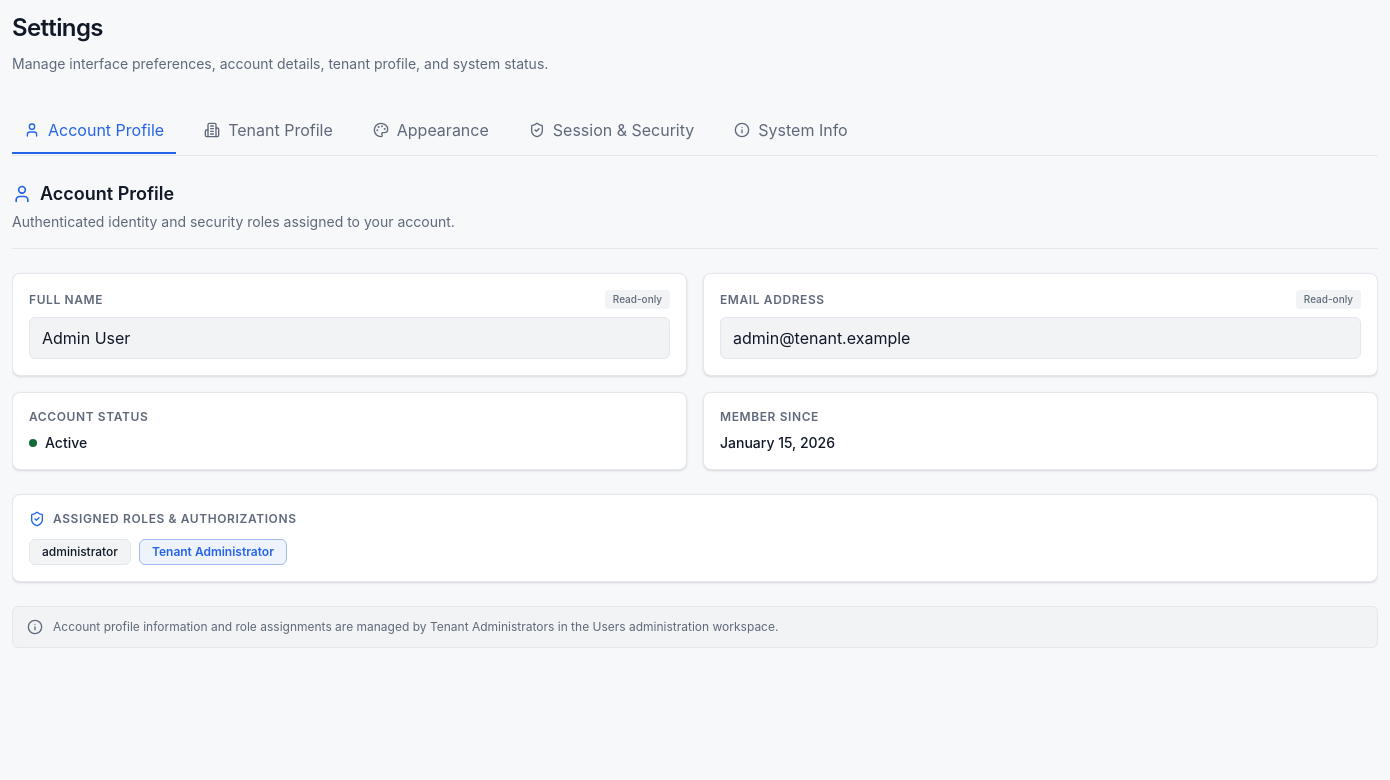
it: SettingsWorkspace Component › switches between settings tabs cleanly
Expected: the heading "Settings" is shown, [12,13,103,42]
# Switch to Tenant Profile
What coordinates should you click on to do the following:
click the tab "Tenant Profile"
I would click on:
 (268, 131)
Its box is [192,108,345,154].
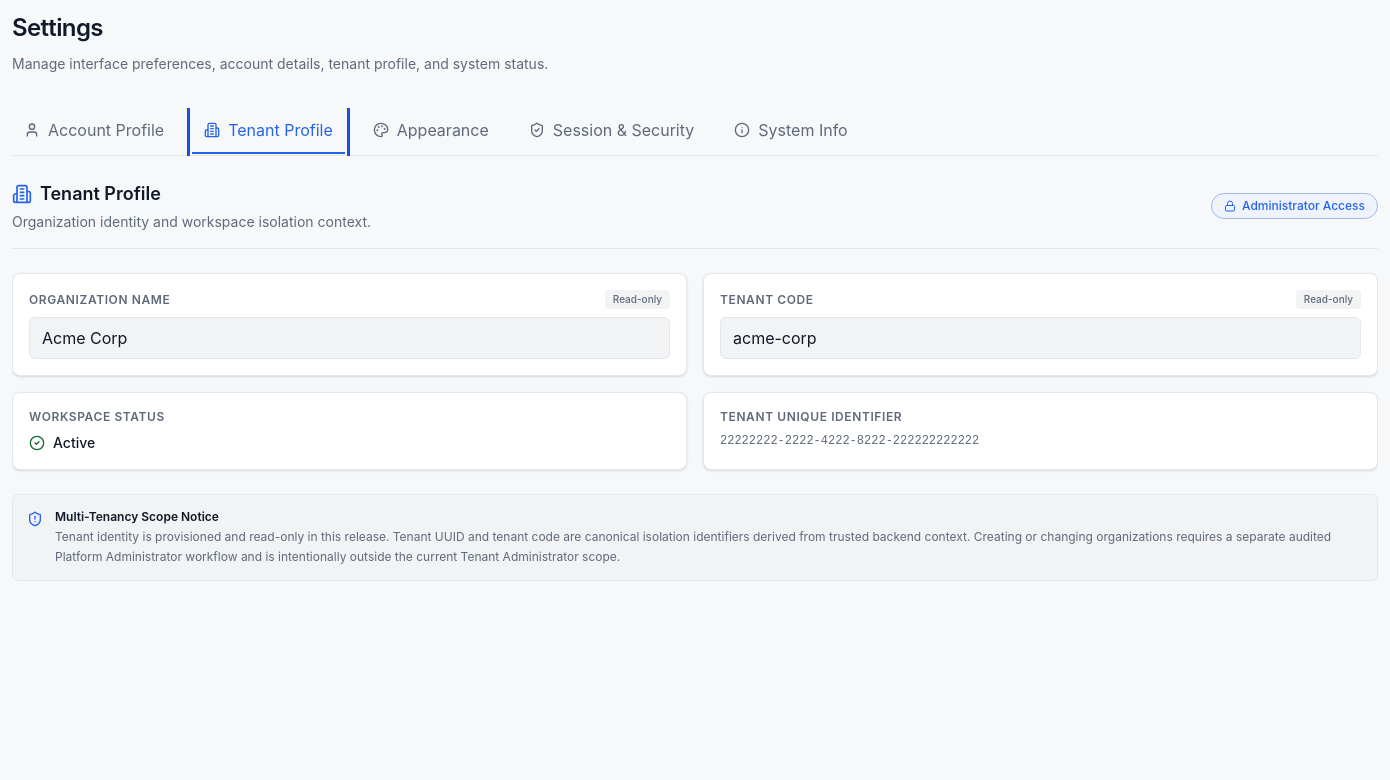
Expected: the field showing "Acme Corp" is shown, [29,317,670,359]
Expected: the field showing "acme-corp" is shown, [720,317,1361,359]
# Switch to Appearance
What coordinates should you click on to do the following:
click the tab "Appearance"
I would click on:
 (431, 131)
Its box is [361,108,501,154].
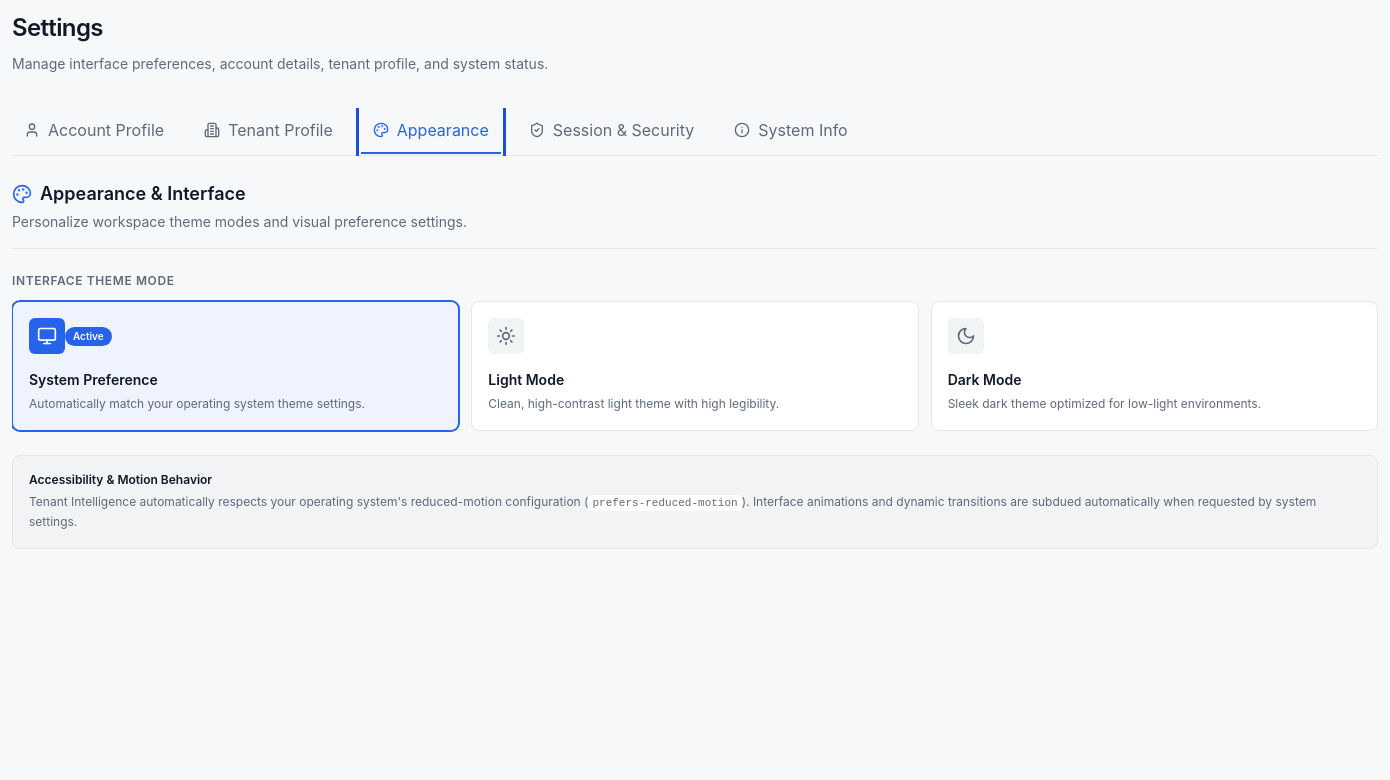
Expected: the element named "Interface Theme Mode" is shown, [12,301,1378,430]
# Switch to Session & Security
What coordinates should you click on to do the following:
click the tab "Session & Security"
I would click on:
 (612, 131)
Its box is [517,108,706,154].
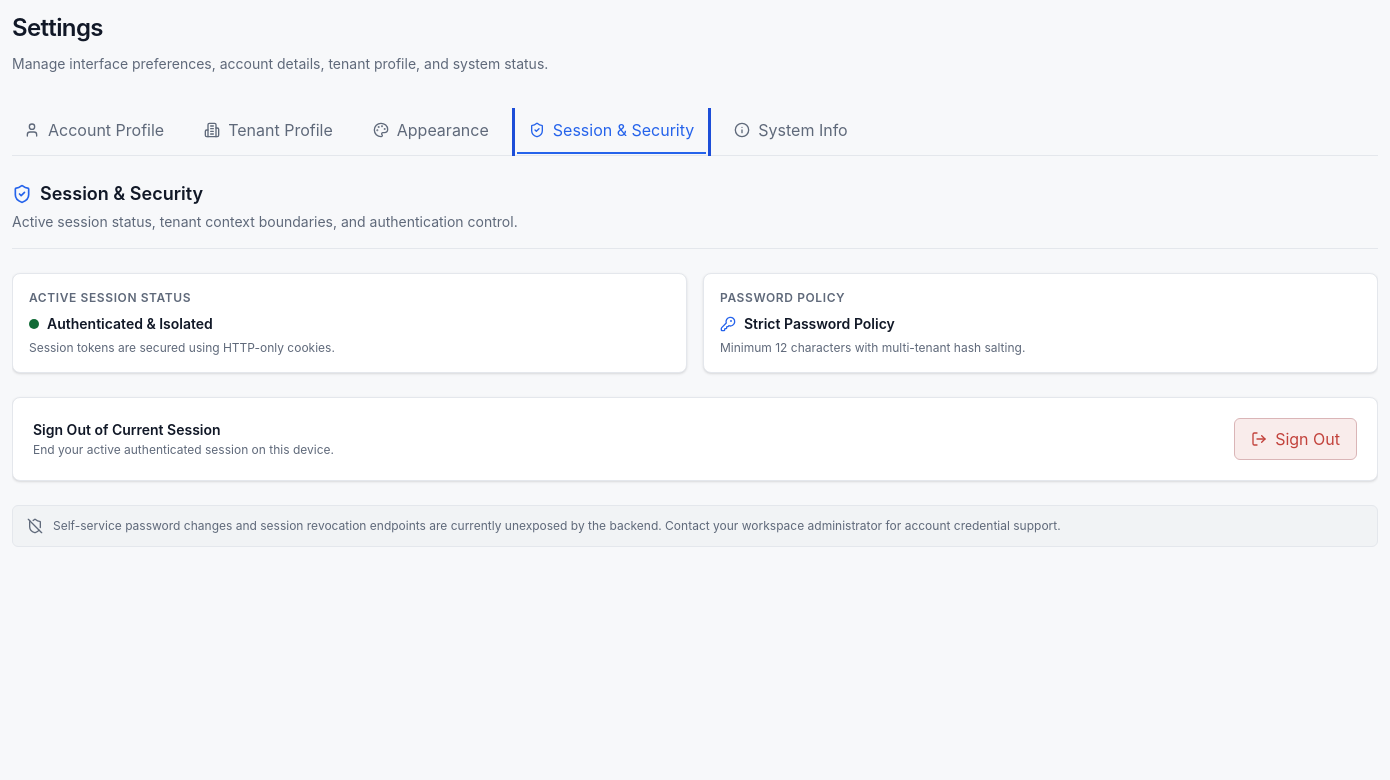
Expected: the text "Active Session Status" is shown, [29,290,191,305]
Expected: the button "Sign Out" is shown, [1234,418,1357,460]
# Switch to System Info
What coordinates should you click on to do the following:
click the tab "System Info"
I would click on:
 (791, 131)
Its box is [722,108,860,154].
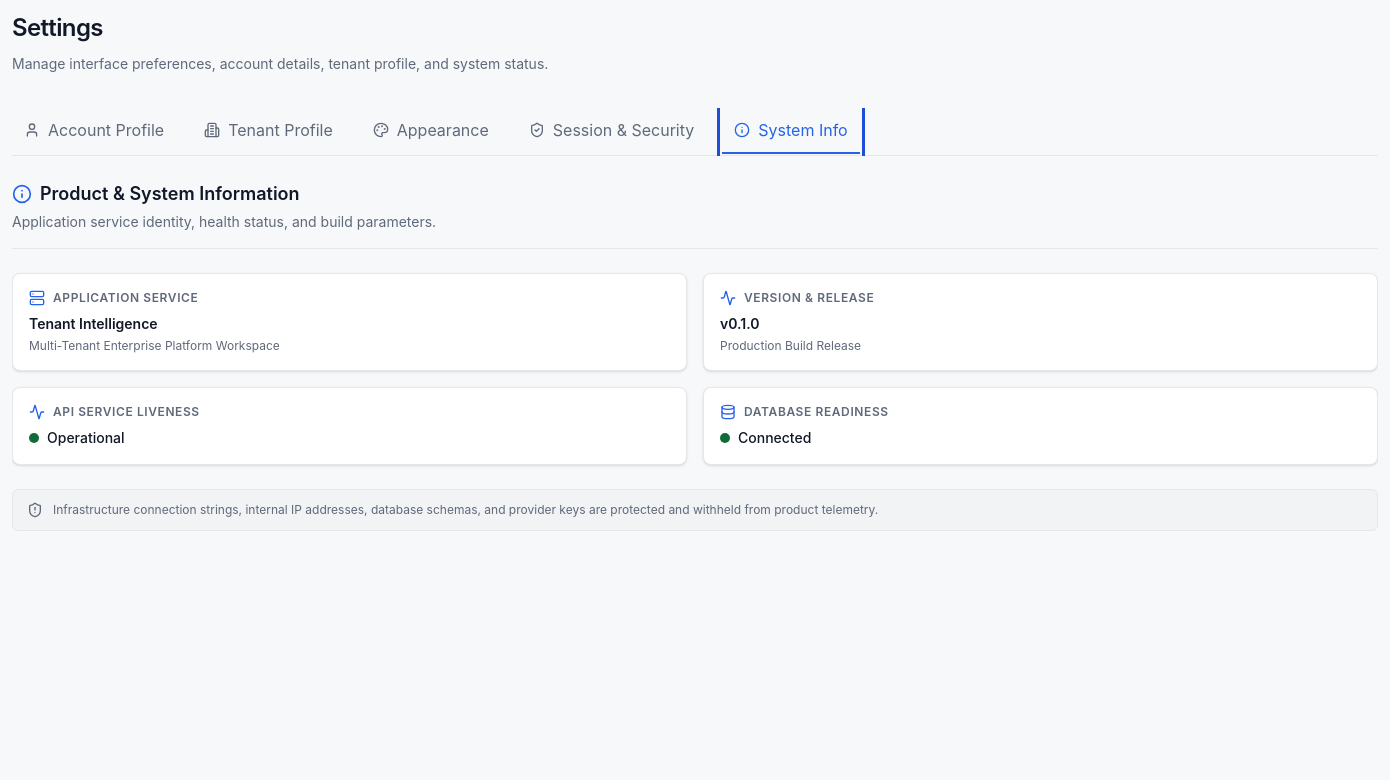
Expected: the text "Tenant Intelligence" is shown, [29,315,158,332]
Expected: the text "v0.1.0" is shown, [720,315,760,332]
